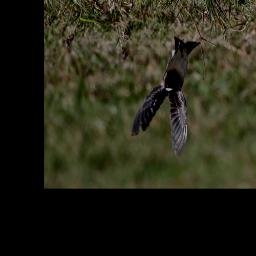Swallow: (131, 37, 201, 158)
